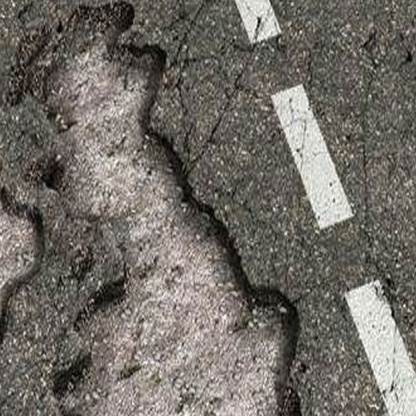pothole: (3, 1, 307, 414)
